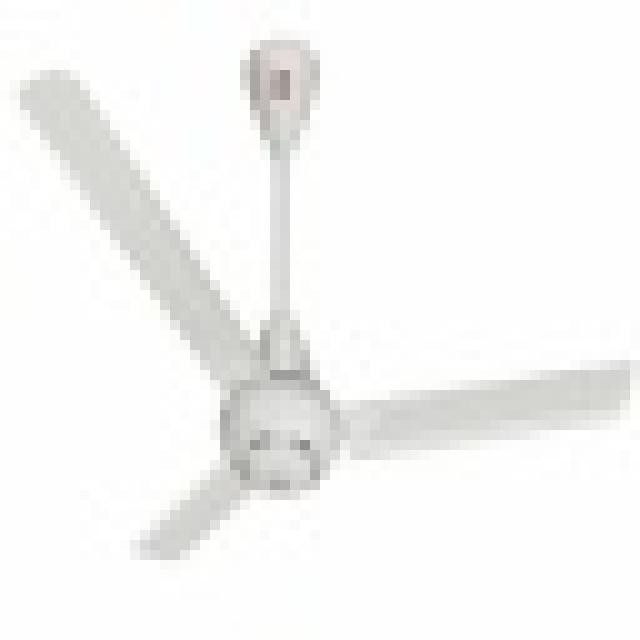Bulb: (19, 63, 616, 584)
